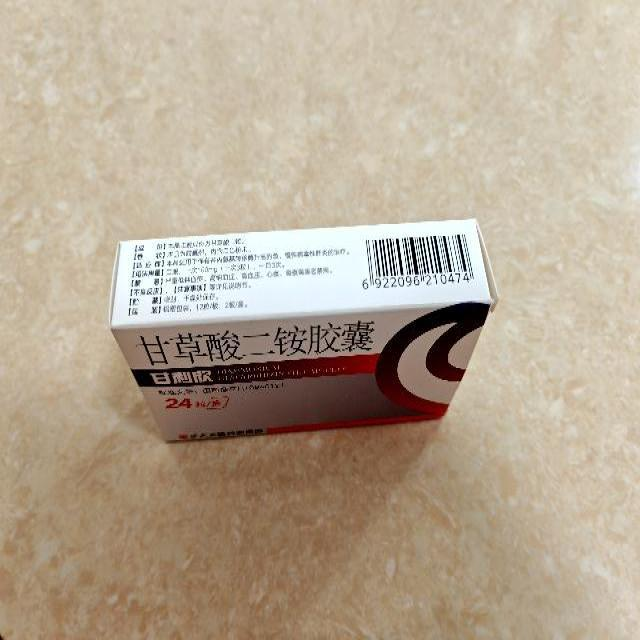box: (110, 218, 497, 443)
